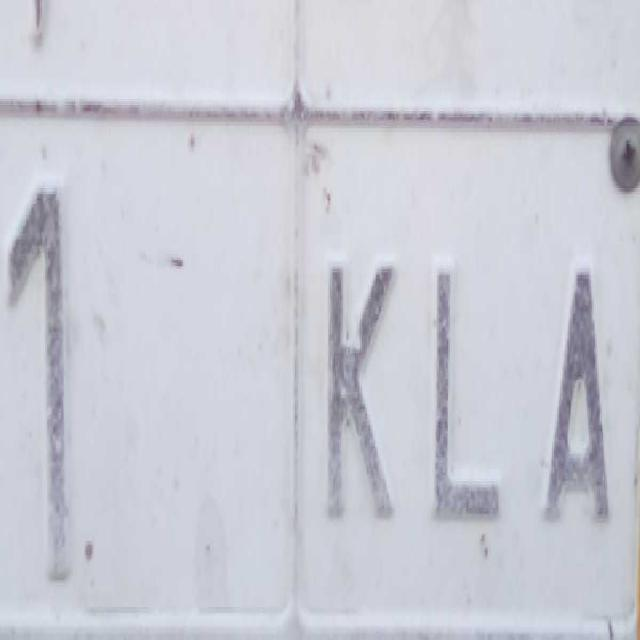license_plate: (0, 106, 628, 640)
